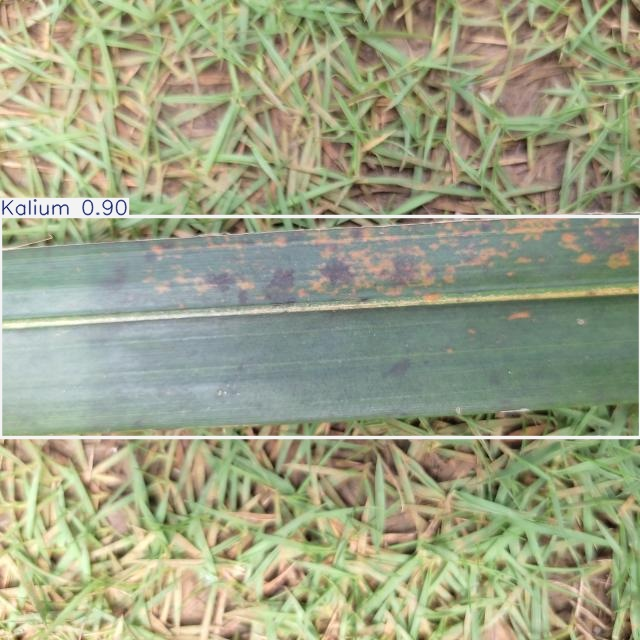Kalium: (0, 217, 640, 437)
